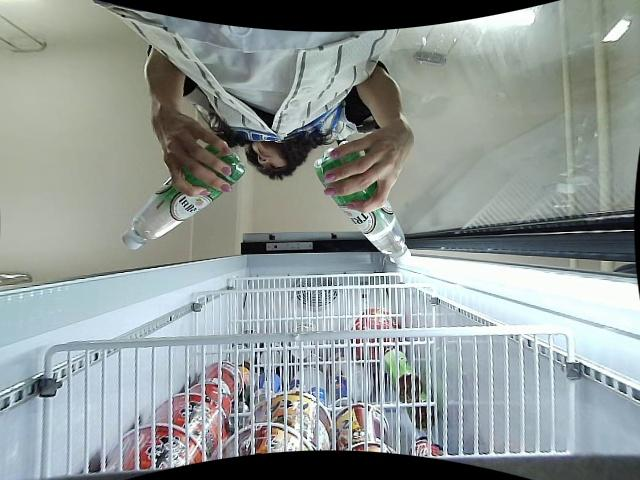00_hand: (325, 121, 415, 210), (149, 108, 232, 197)
18_trevi: (122, 145, 243, 247), (314, 140, 412, 265)
